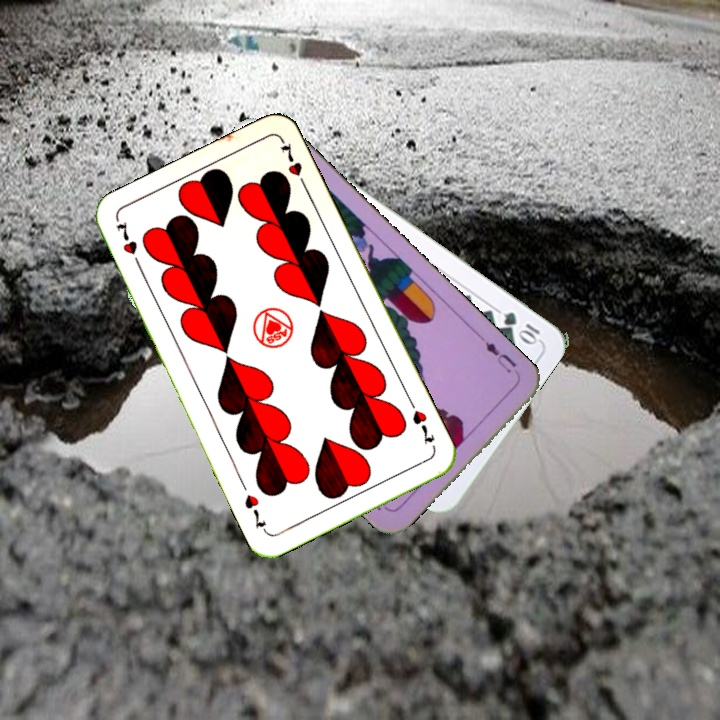EU: (480, 338, 523, 379)
G10: (499, 307, 543, 347)
H7: (112, 217, 144, 272), (405, 396, 437, 447)
